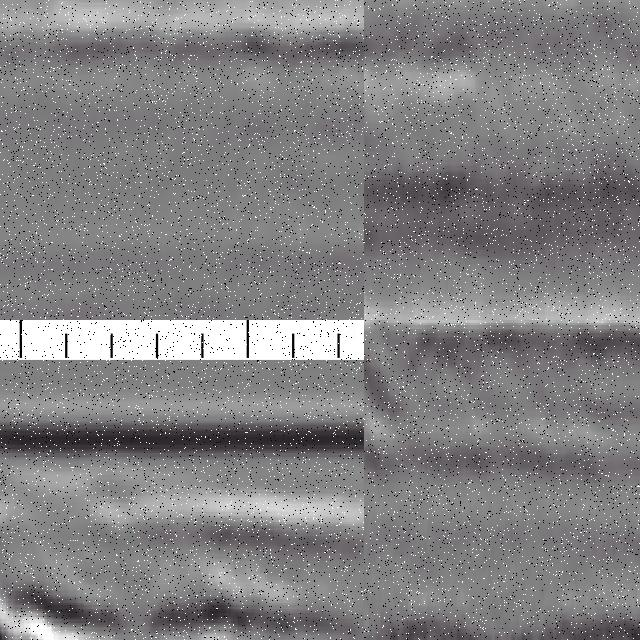loose: (1, 533, 252, 640), (365, 1, 477, 235)
